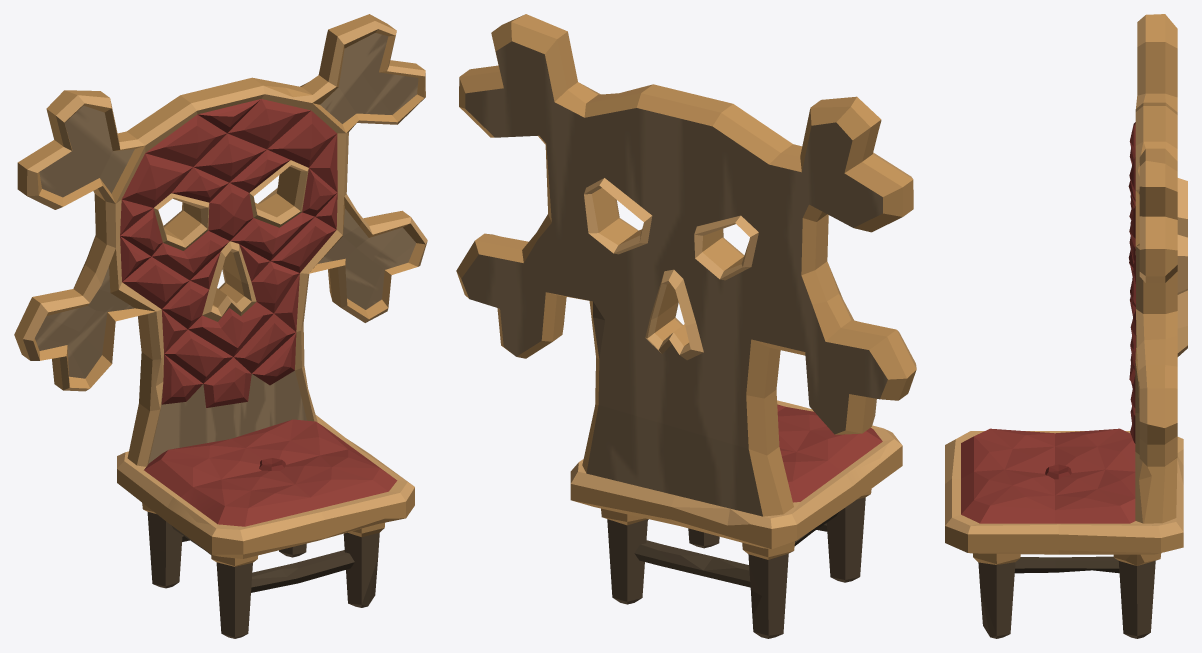
File: SM_Prop_Throne_01.fbx
3 views of the same model, side by side, from view 1: azimuth 30°, elevation 25°; view 2: azimuth 150°, elevation 25°; view 3: azimuth 270°, elevation 25° (orthographic). The views are drawn at different scales.
Parts seen in each view (by area): view 1: SM_Prop_Throne_01; view 2: SM_Prop_Throne_01; view 3: SM_Prop_Throne_01.
Part boxes in pixels (bbox=[...]): SM_Prop_Throne_01: bbox=[14, 14, 427, 638]; SM_Prop_Throne_01: bbox=[456, 14, 916, 638]; SM_Prop_Throne_01: bbox=[945, 14, 1187, 638].
Size of the model in its own units: 146 by 176 by 74.59.
